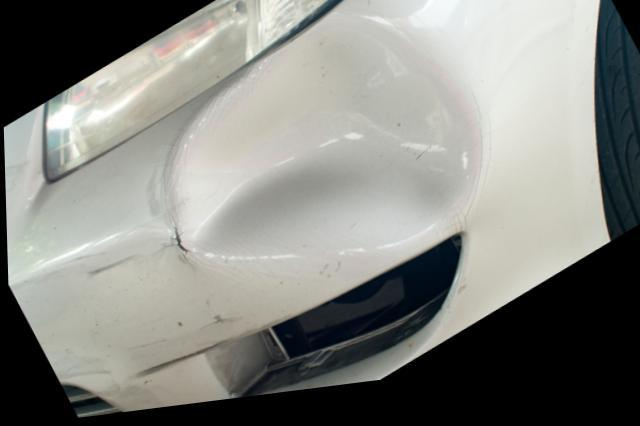dent: (159, 24, 479, 271)
